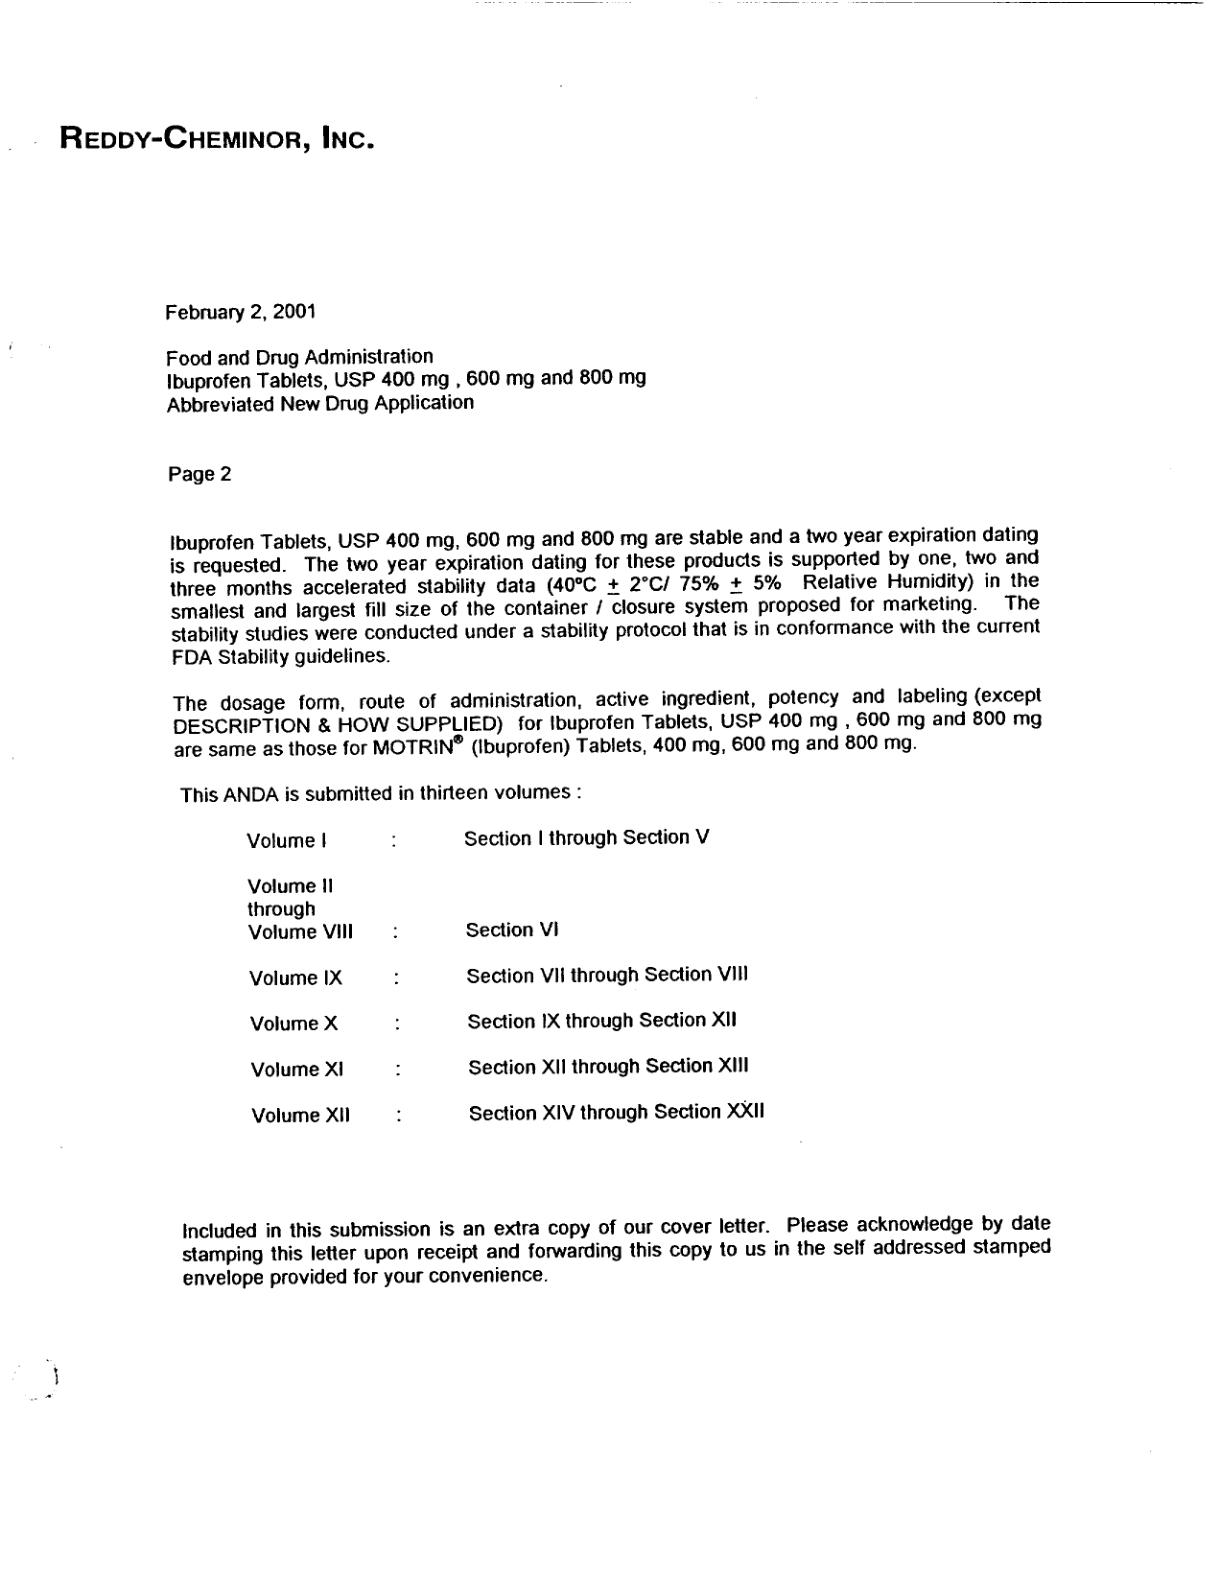nolines: (241, 825, 769, 1123)
